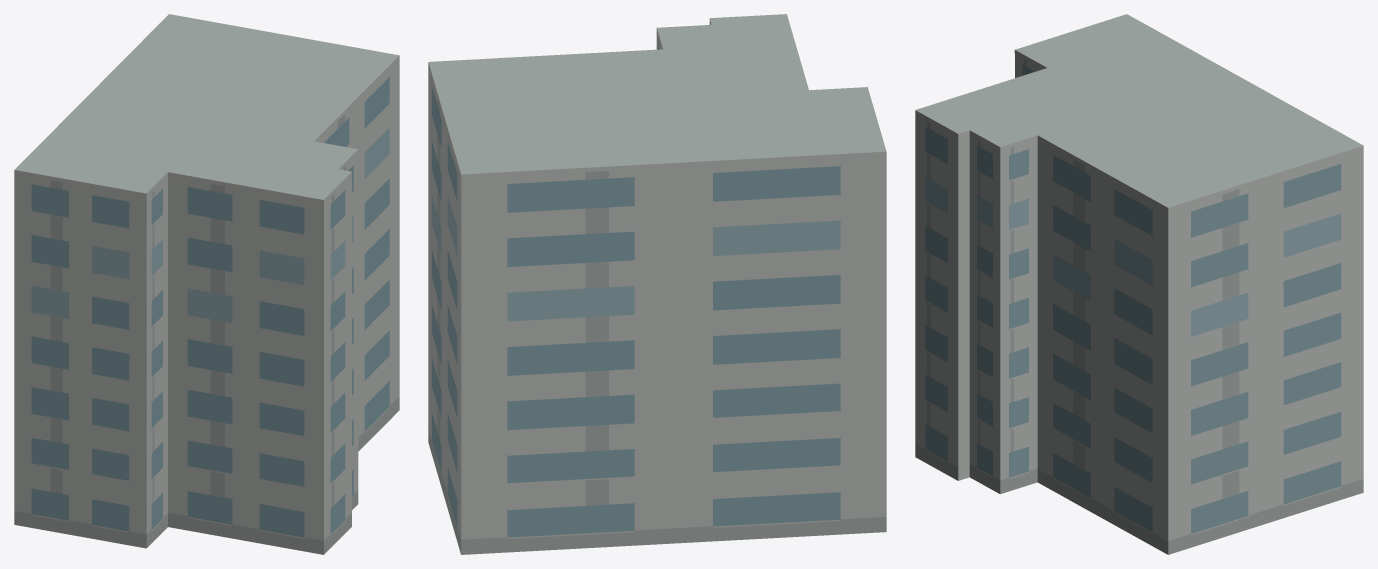
Rendered from survey-upis-32795910.glb.
3 renders of one model, left to right at view 1: azimuth 30°, elevation 25°; view 2: azimuth 150°, elevation 25°; view 3: azimuth 270°, elevation 25°, orthographic. The views are drawn at different scales.
Visible parts, largest first — view 1: survey-upis-32795910.tmp; view 2: survey-upis-32795910.tmp; view 3: survey-upis-32795910.tmp.
Part boxes in pixels (x1=…): survey-upis-32795910.tmp: x1=14, y1=14, x2=399, y2=554; survey-upis-32795910.tmp: x1=428, y1=14, x2=886, y2=554; survey-upis-32795910.tmp: x1=915, y1=14, x2=1363, y2=554.
Size of the model in its own units: 25.53 by 21.3 by 24.96.
